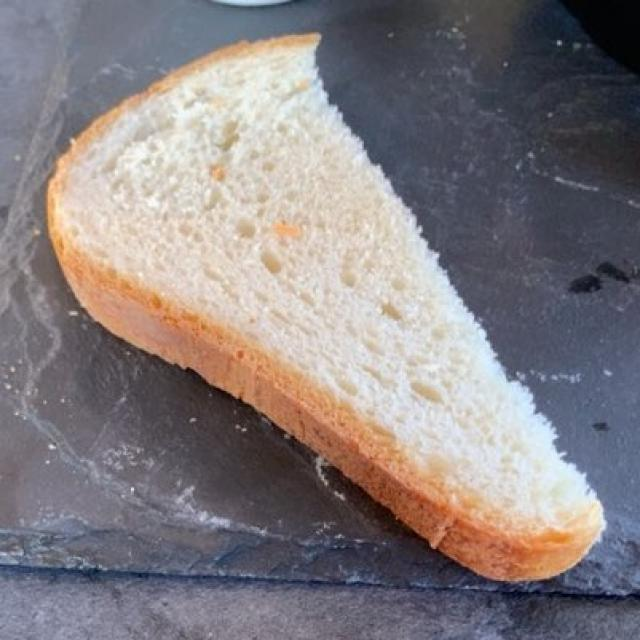bread: (53, 39, 595, 574)
